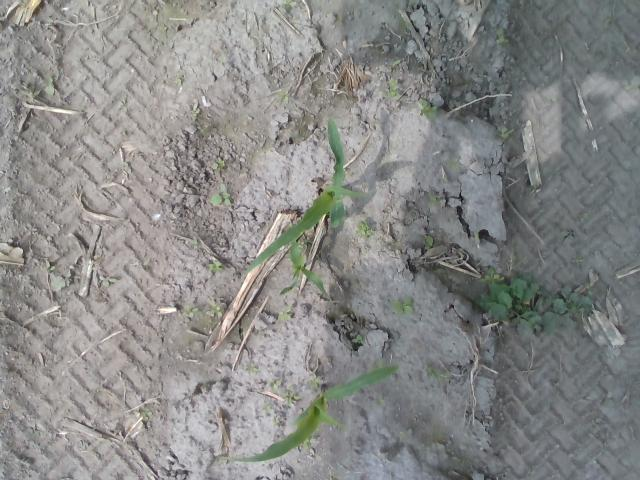Maize: (238, 117, 368, 276), (228, 362, 400, 466), (278, 235, 330, 298)
Weeds: (476, 264, 594, 340), (45, 263, 74, 290), (205, 183, 233, 207), (422, 360, 449, 380), (391, 293, 413, 316), (491, 124, 516, 144), (417, 96, 435, 118), (206, 300, 224, 319), (386, 74, 400, 97), (280, 389, 300, 405), (98, 272, 120, 286), (275, 306, 294, 322), (305, 374, 325, 389), (206, 258, 224, 272), (494, 28, 508, 46), (44, 76, 56, 96), (355, 221, 371, 236), (210, 154, 224, 170), (183, 304, 198, 318), (421, 232, 433, 248), (447, 158, 462, 170), (352, 333, 366, 345), (427, 193, 442, 204), (268, 377, 280, 390), (190, 103, 201, 117), (276, 91, 290, 102), (142, 408, 154, 420), (304, 438, 317, 449), (572, 254, 586, 264), (244, 365, 258, 375), (282, 0, 296, 10), (158, 22, 170, 32), (190, 238, 200, 248)
